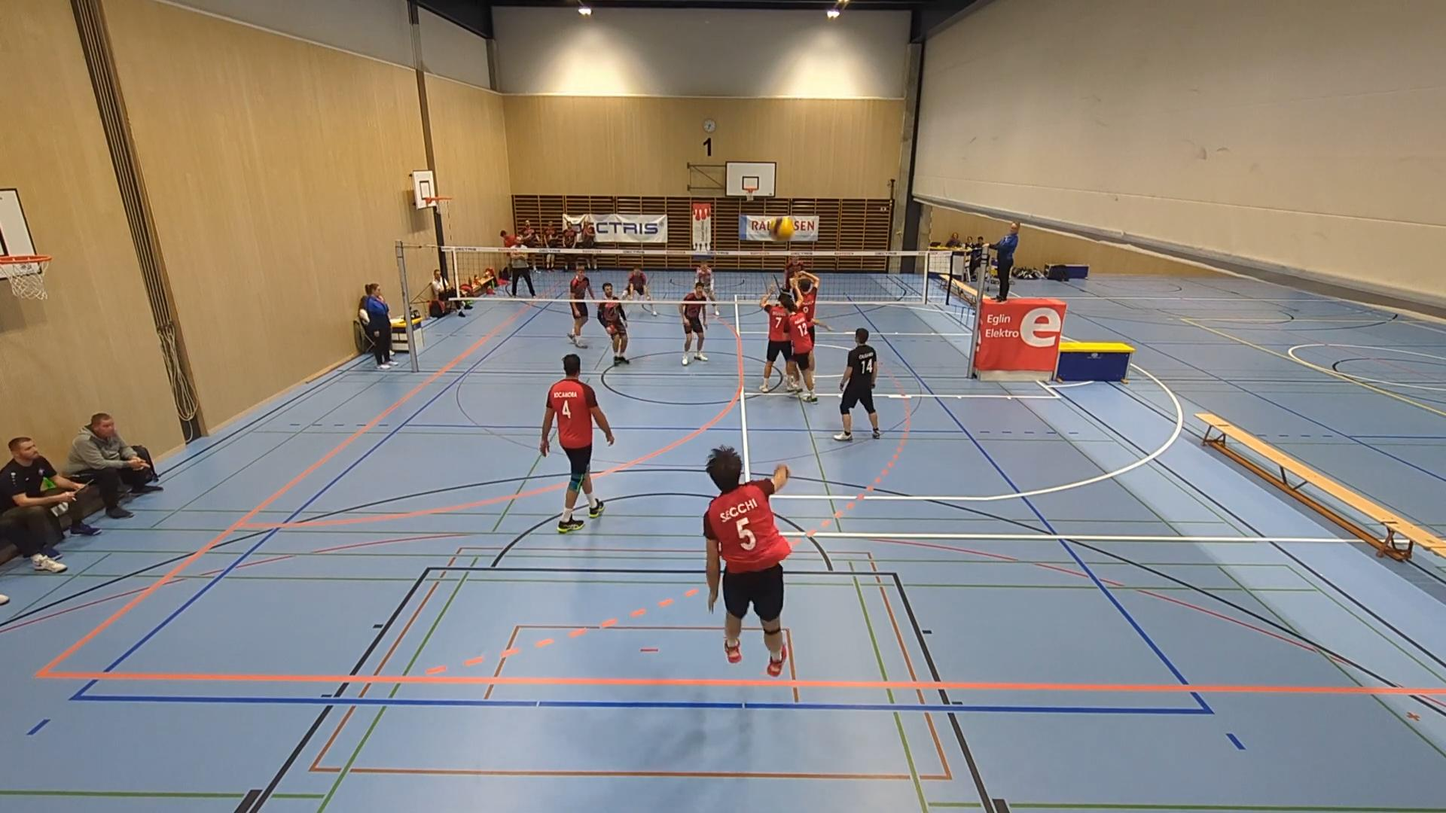Player: (539, 354, 614, 532), (834, 328, 880, 441), (785, 297, 820, 403), (759, 286, 792, 391), (597, 282, 629, 365), (679, 282, 707, 365), (569, 263, 596, 347), (792, 269, 819, 340), (624, 266, 658, 315), (695, 262, 719, 316), (783, 258, 803, 291)
Serve: (689, 441, 810, 672)
ball: (769, 217, 793, 242)
